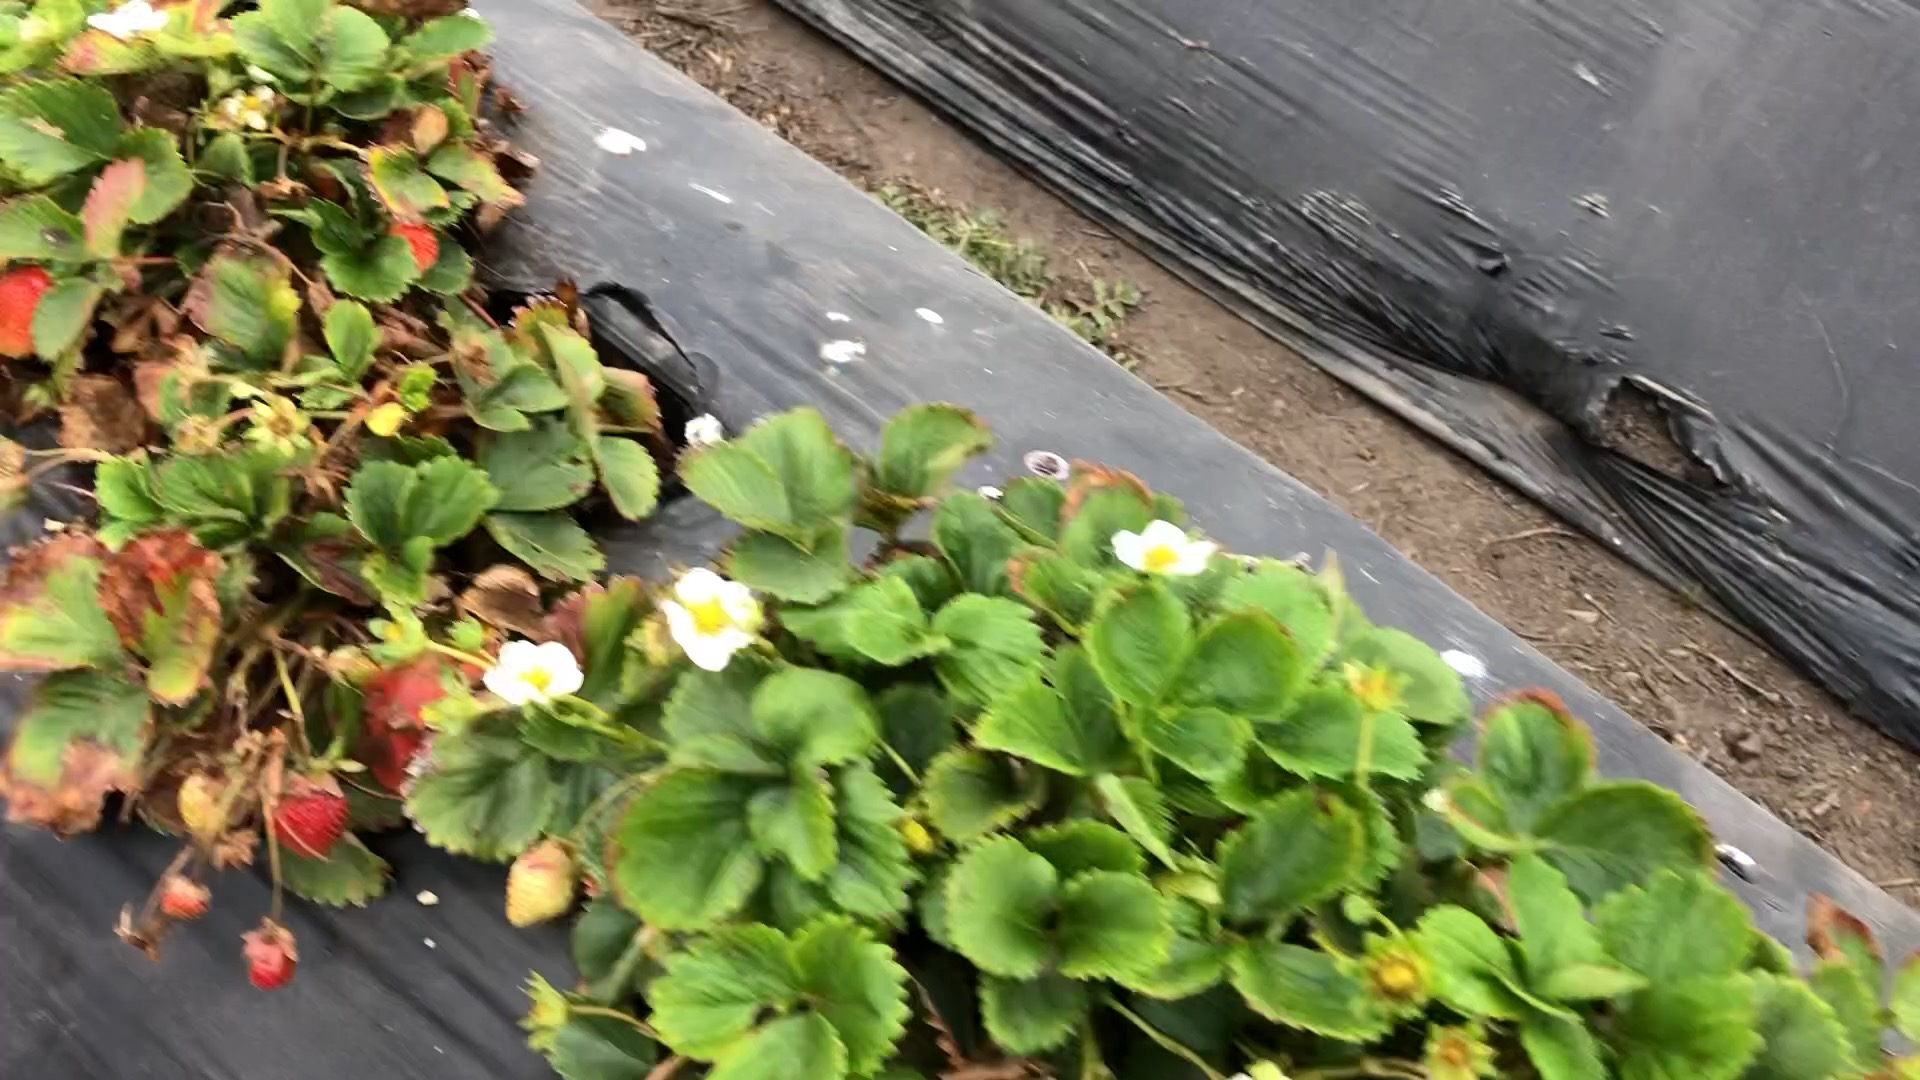ripe_strawberry: (272, 764, 352, 864), (241, 923, 301, 997), (158, 872, 216, 928)
unripe_strawberry: (500, 840, 574, 930)
